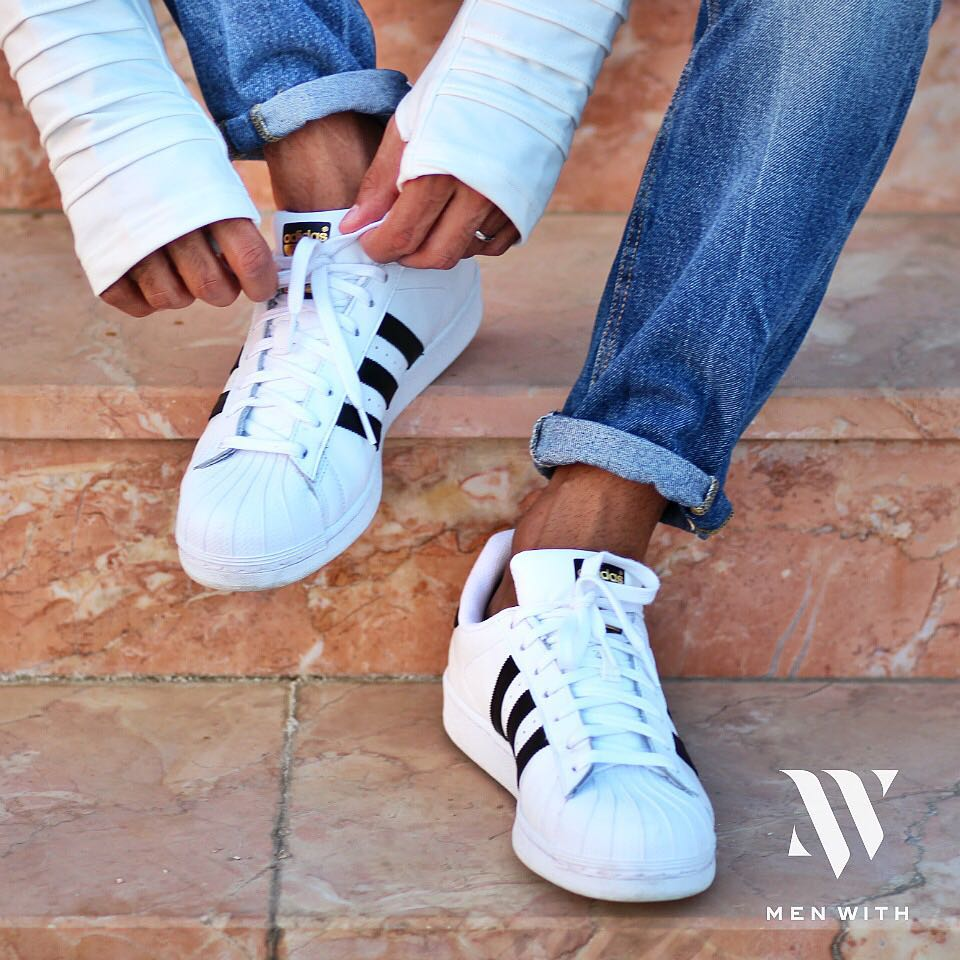sneaker: (149, 167, 507, 621), (420, 507, 741, 939)
